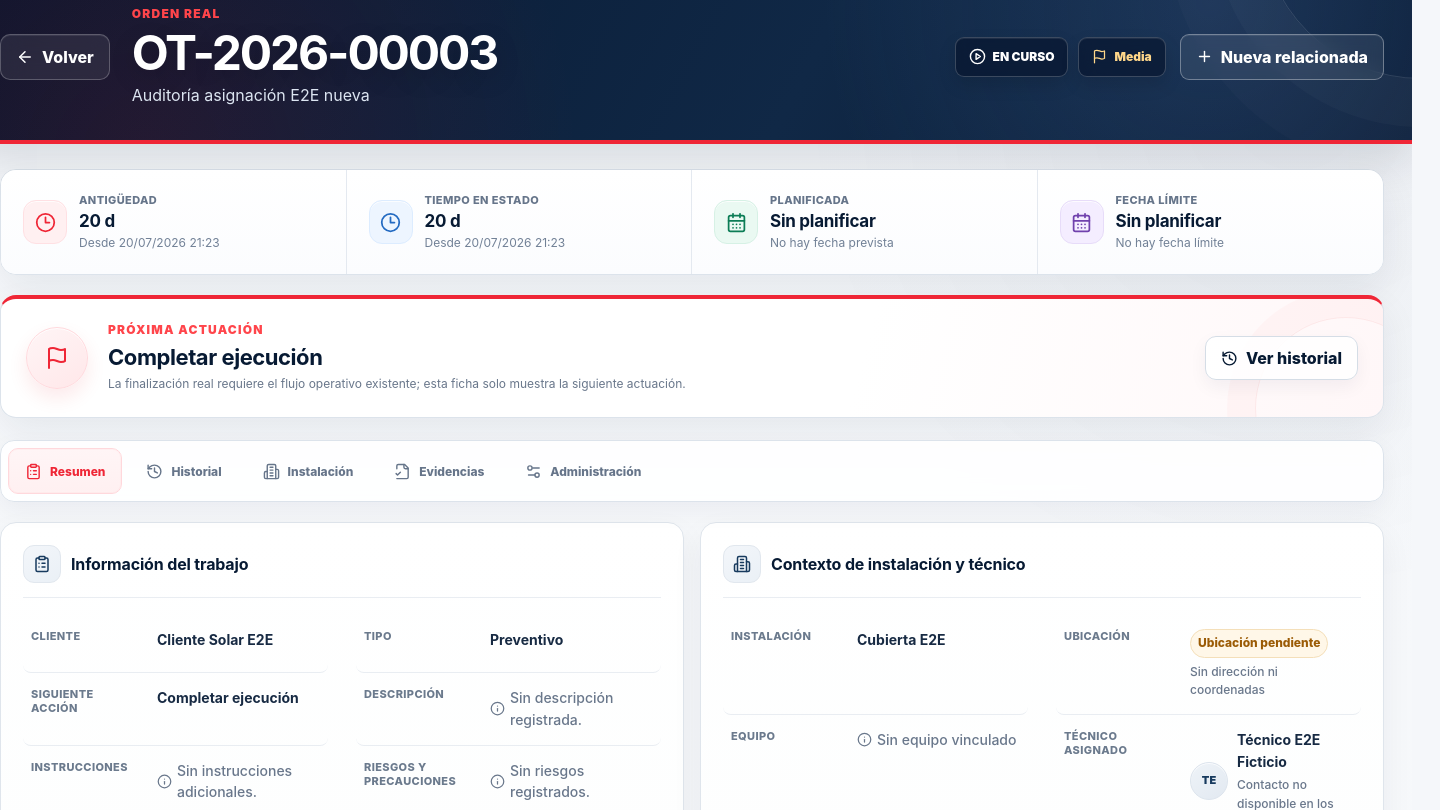
Test: ficha administrativa premium de OT › sitúa las evidencias reales y la revisión en sus pestañas correspondientes
The width and height of the screenshot is (1440, 810).
Click the tab "Evidencias". click: [439, 471]
box: x1=377 y1=448 x2=501 y2=494
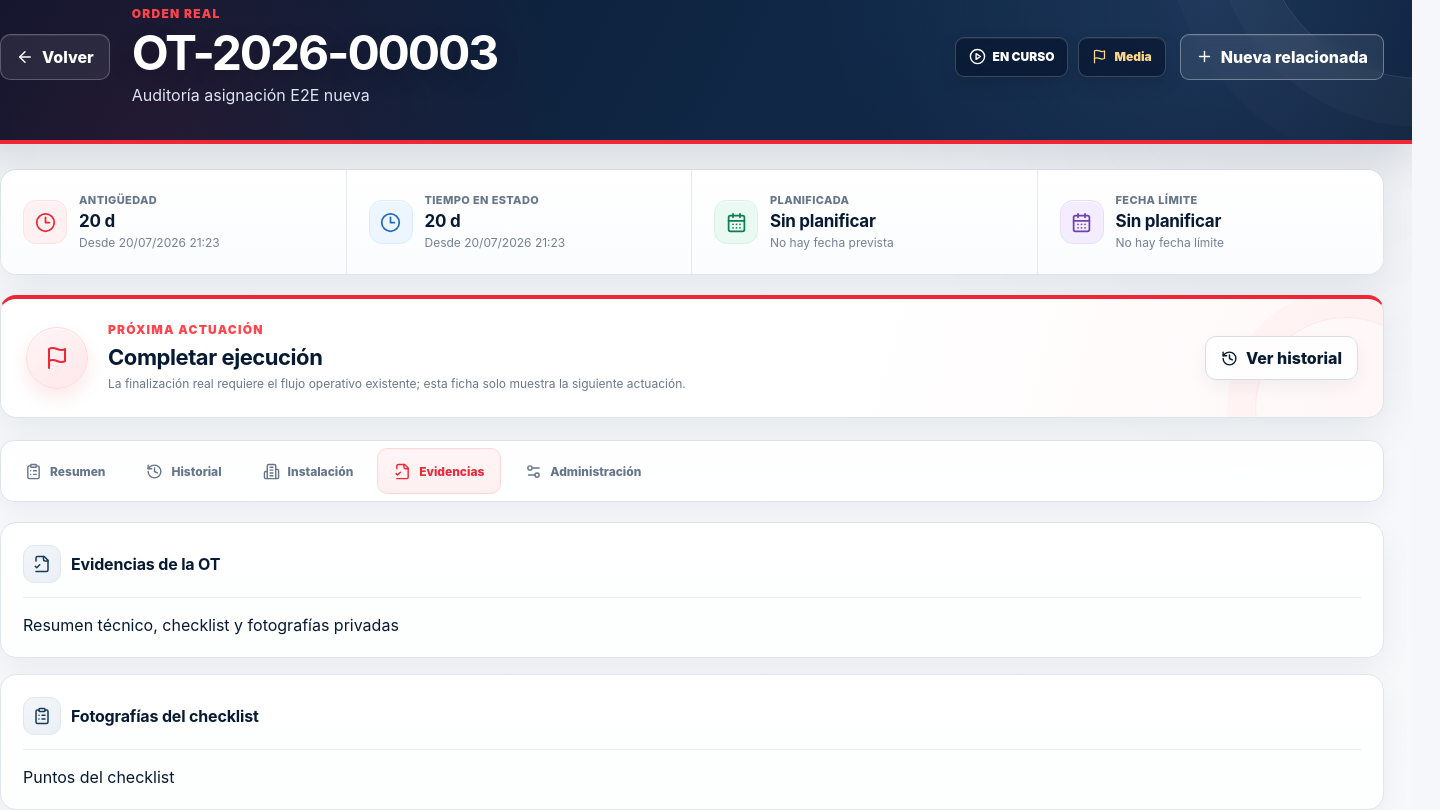
Now the heading "Evidencias de la OT" is shown, box x1=71 y1=554 x2=220 y2=574
Now the heading "Fotografías del checklist" is shown, box x1=71 y1=706 x2=259 y2=726
Now the text named "Evidencias reales" is shown, box x1=23 y1=615 x2=399 y2=635
Click the tab "Instalación". click: [308, 471]
box: x1=246 y1=448 x2=370 y2=494
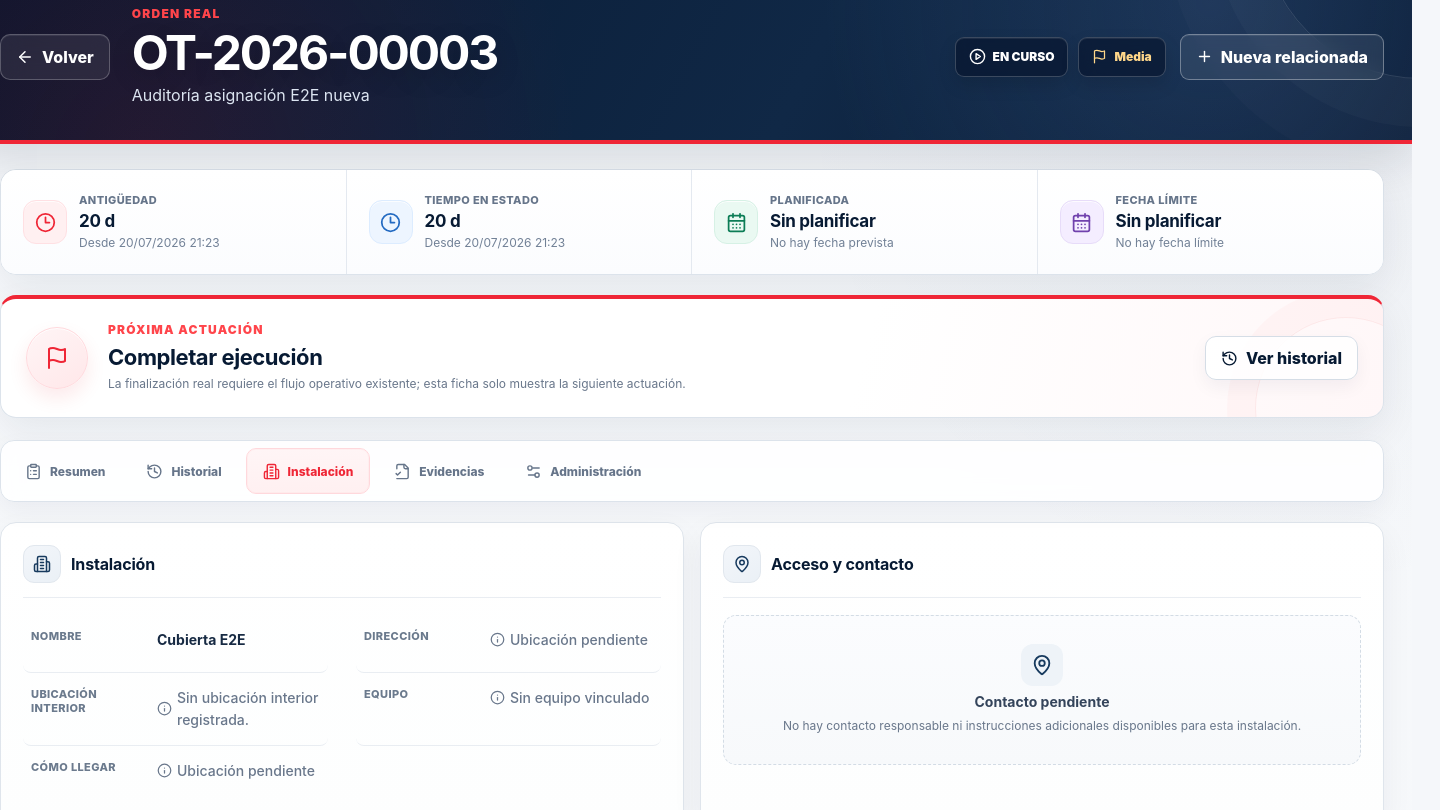
Click the tab "Administración". click: [583, 471]
box: x1=508 y1=448 x2=658 y2=494
(page scrolled)
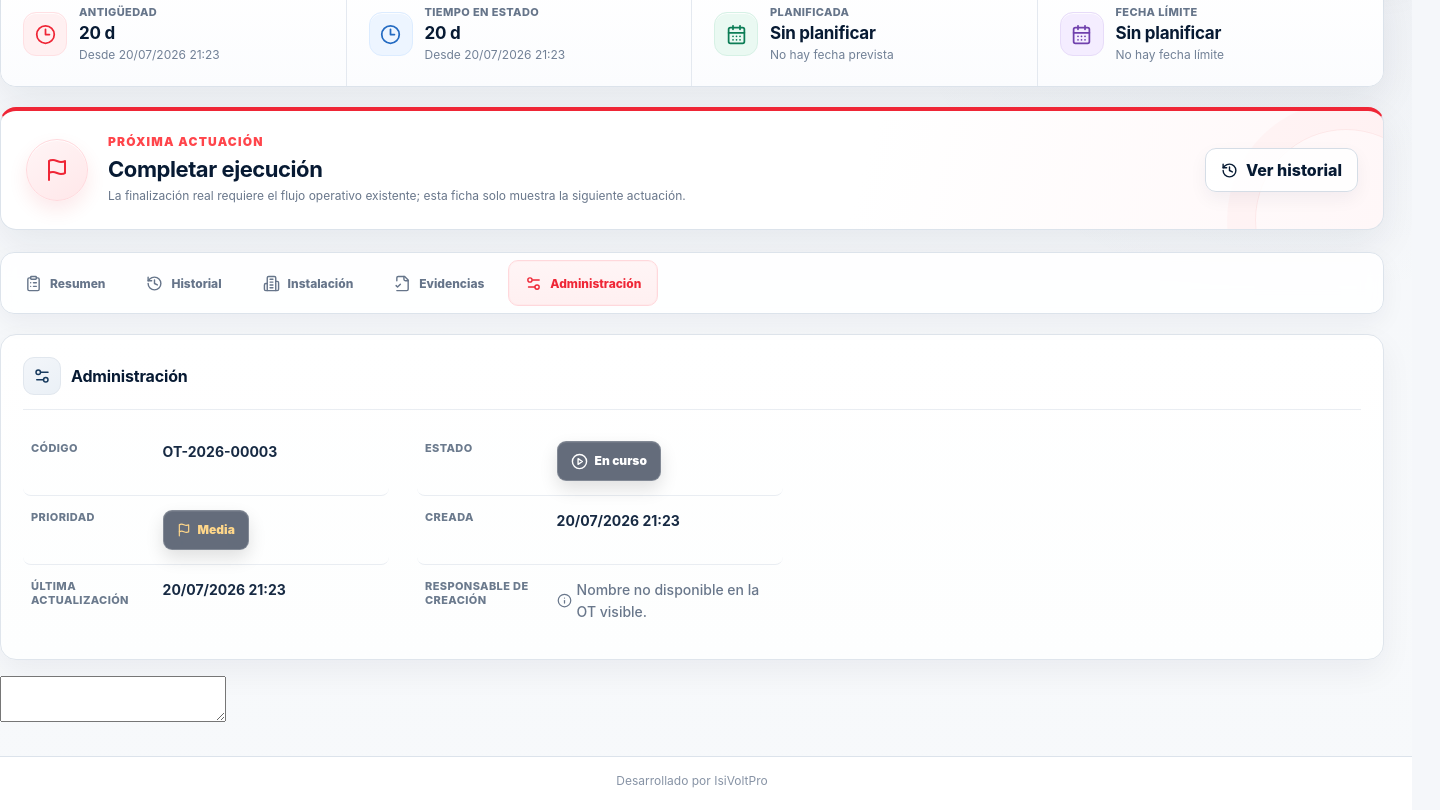
Now the form named "Revisión administrativa" is shown, box x1=0 y1=676 x2=226 y2=722
